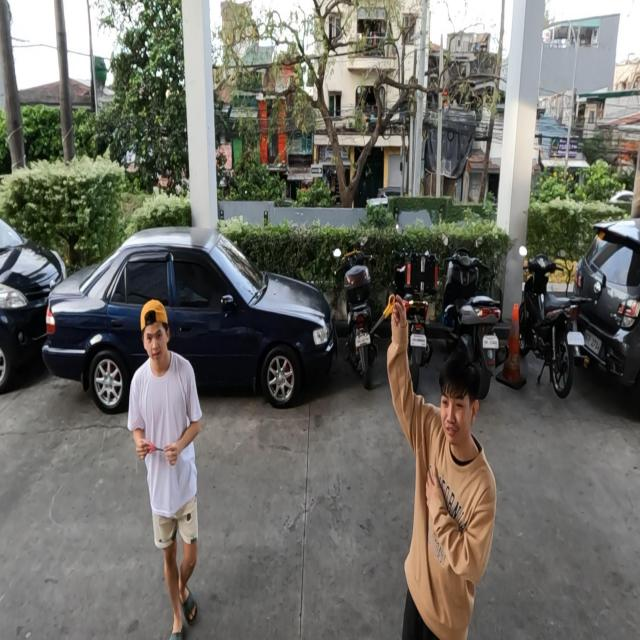scissor: (369, 294, 398, 334), (147, 440, 168, 457)
